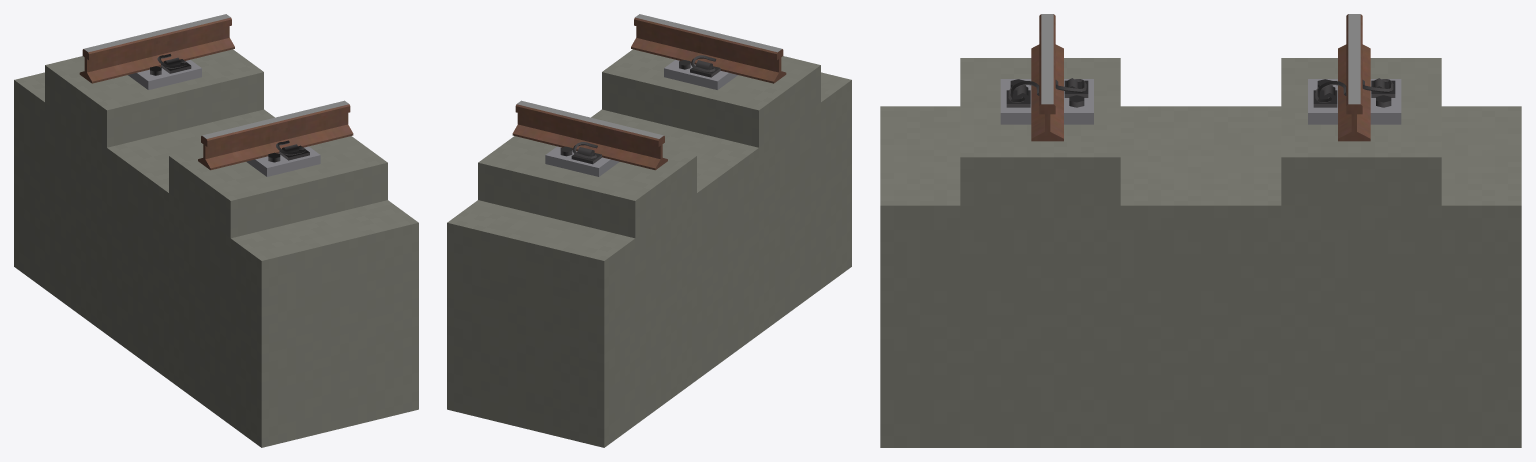
3 renders of one model, left to right at view 1: azimuth 30°, elevation 25°; view 2: azimuth 150°, elevation 25°; view 3: azimuth 270°, elevation 25°, orthographic. The views are drawn at different scales.
Parts seen in each view (by area): view 1: rail_full_ballast, rail_left_rail, rail_right_rail, rail_center_sleeper, rail_center_fastener_1; view 2: rail_full_ballast, rail_left_rail, rail_right_rail, rail_center_sleeper, rail_center_fastener_1; view 3: rail_full_ballast, rail_left_rail, rail_right_rail, rail_center_sleeper, rail_center_fastener_1, rail_center_fastener.
Boxes of the visible parts, left/top/right/bottom form: rail_full_ballast: left=14, top=49, right=418, bottom=447; rail_left_rail: left=198, top=100, right=353, bottom=170; rail_right_rail: left=79, top=14, right=234, bottom=83; rail_center_sleeper: left=128, top=59, right=320, bottom=176; rail_center_fastener_1: left=150, top=57, right=309, bottom=162; rail_full_ballast: left=447, top=49, right=851, bottom=447; rail_left_rail: left=631, top=14, right=786, bottom=83; rail_right_rail: left=512, top=100, right=667, bottom=170; rail_center_sleeper: left=545, top=59, right=737, bottom=176; rail_center_fastener_1: left=560, top=60, right=720, bottom=164; rail_full_ballast: left=880, top=58, right=1521, bottom=447; rail_left_rail: left=1031, top=14, right=1063, bottom=141; rail_right_rail: left=1338, top=14, right=1370, bottom=141; rail_center_sleeper: left=1000, top=79, right=1401, bottom=124; rail_center_fastener_1: left=1006, top=78, right=1395, bottom=107; rail_center_fastener: left=1008, top=79, right=1393, bottom=102.
Size of the model in its own units: 1.1 by 1.75 by 3.
Materials: 5 (5 with a texture image).
